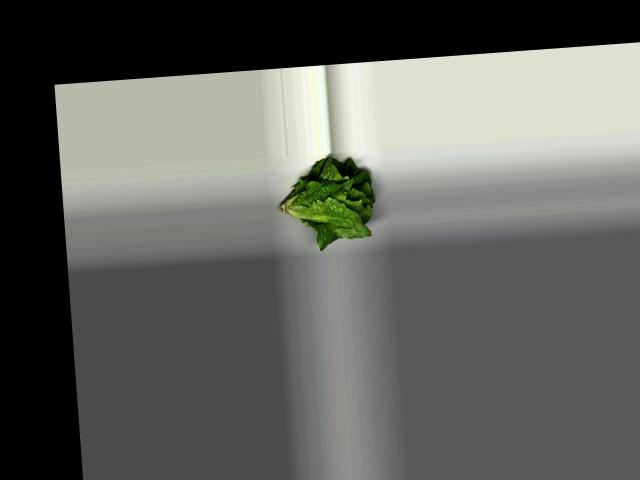lettuce: (268, 148, 382, 251)
